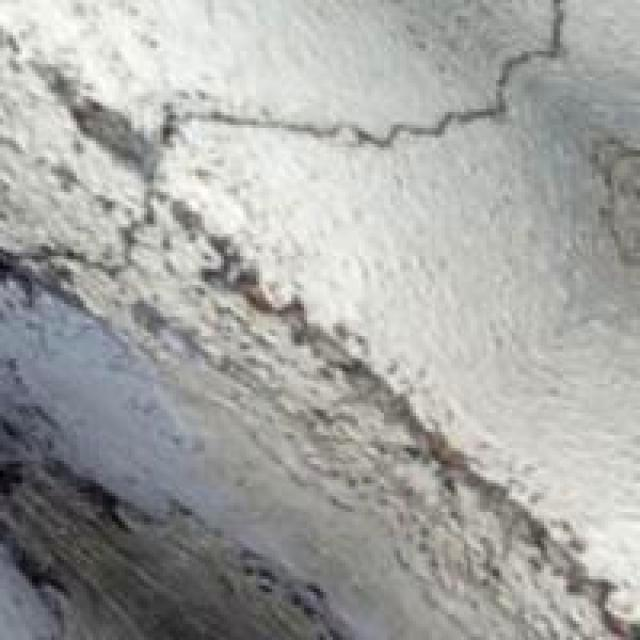SurfaceCrack: (2, 0, 580, 310)
